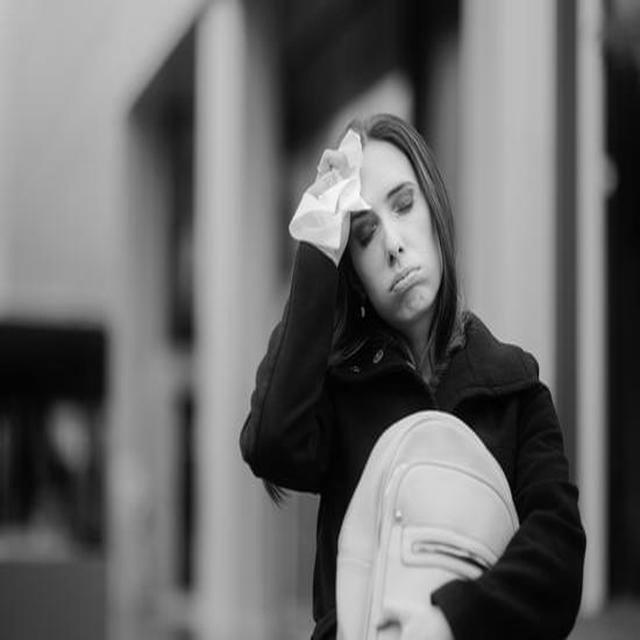Sadness: (336, 138, 436, 324)
